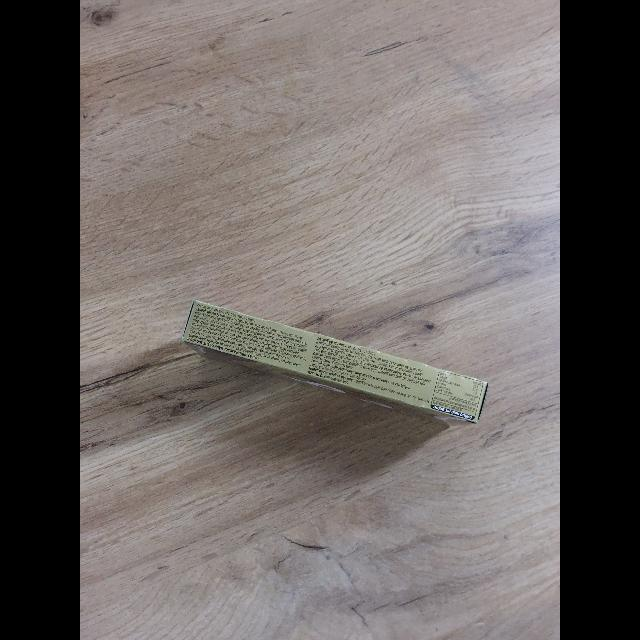banh_toppo_socola: (182, 301, 488, 423)
